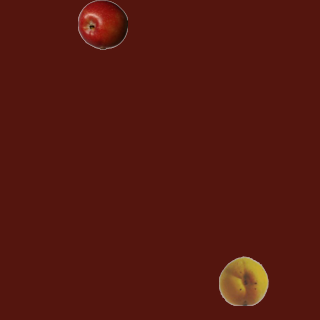Apple Braeburn: (77, 0, 127, 49)
Peach 2: (218, 255, 268, 305)
